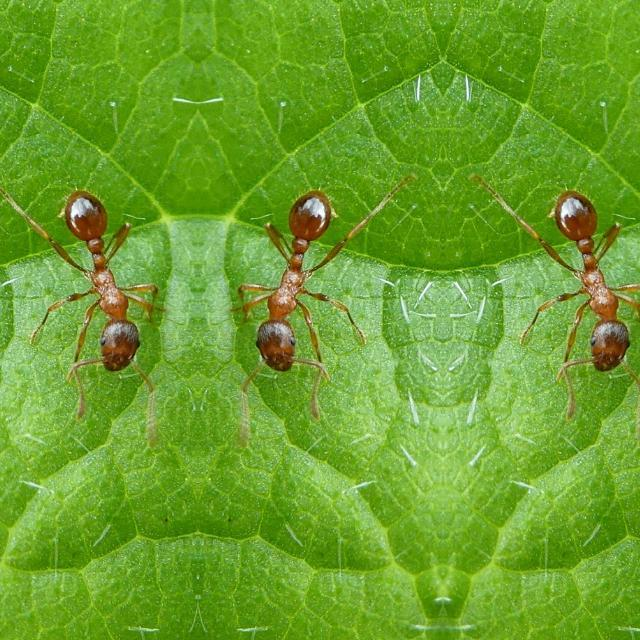Myrmica: (231, 149, 345, 417), (49, 149, 163, 417), (540, 149, 640, 417)
